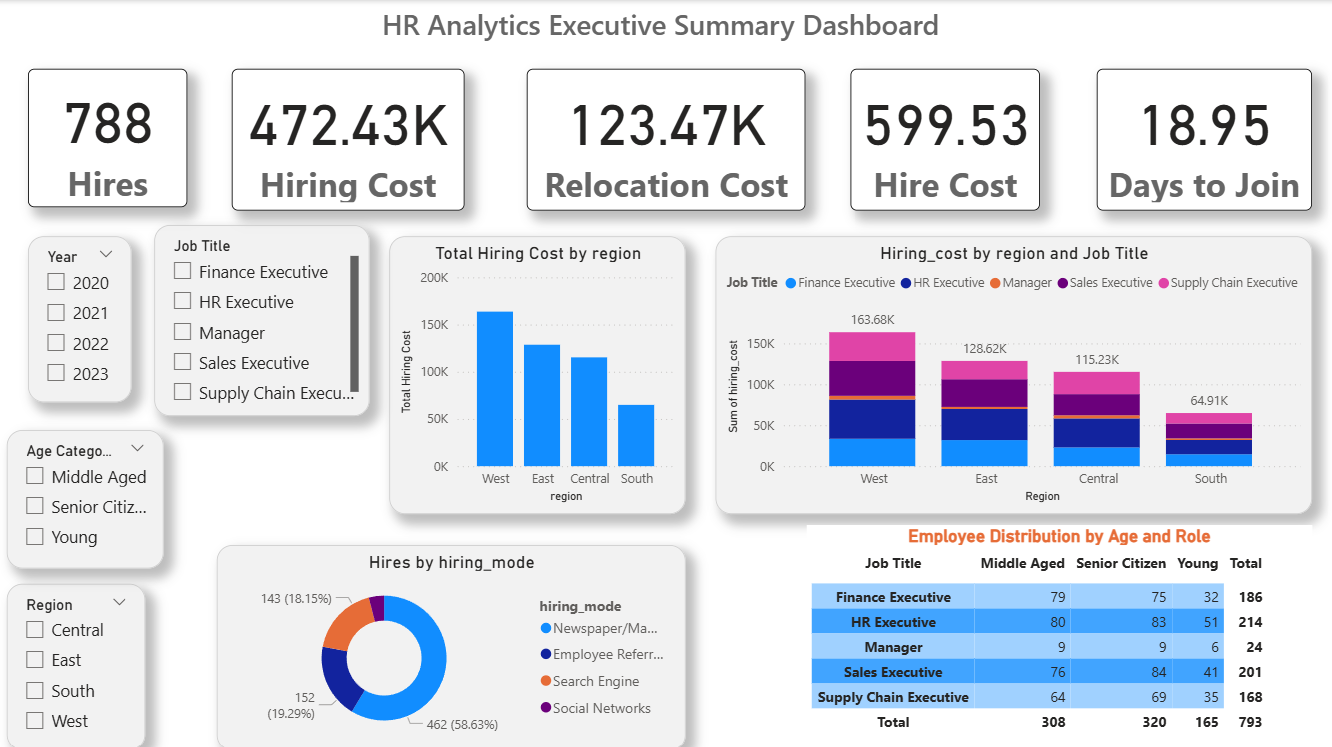

Layout of this report page (visuals, bound fields, positions):
{"tool":"powerbi","page":{"name":"Executive Summary","canvas":[1280,720],"ordinal":0},"visuals":[{"type":"clusteredColumnChart","fields":{"Category":["Store Data.region"],"Y":["Combined Hiring Data.Total Hiring Cost"]},"box":[374.6,226.3,284.4,266],"z":0},{"type":"columnChart","title":"Hiring_cost by region and Job Title","fields":{"Category":["Store Data.region"],"Y":["Sum(Combined Hiring Data.hiring_cost)"],"Series":["Employee Data.Job Title"]},"box":[688,226.3,571.8,266],"z":1000},{"type":"textbox","box":[0,0,1270.5,48.9],"z":2000},{"type":"card","fields":{"Values":["Combined Hiring Data.Hires"]},"box":[28.7,65.7,152.9,133],"z":3000},{"type":"card","fields":{"Values":["Combined Hiring Data.Total Hiring Cost"]},"box":[224.4,65.7,223.2,136.1],"z":4000},{"type":"card","fields":{"Values":["Combined Hiring Data.Total Relocation Cost"]},"box":[507.3,65.7,267.6,136.1],"z":5000},{"type":"card","fields":{"Values":["Combined Hiring Data.Cost per Hire"]},"box":[817.7,65.7,181.9,136.1],"z":6000},{"type":"card","fields":{"Values":["Combined Hiring Data.Avg Days to Join"]},"box":[1053.1,65.7,206.4,136.1],"z":7000},{"type":"donutChart","fields":{"Category":["Combined Hiring Data.hiring_mode"],"Y":["Combined Hiring Data.Hires"]},"box":[209.5,522.9,449.5,197.2],"z":8000},{"type":"pivotTable","title":"Employee Distribution by Age and Role","fields":{"Rows":["Employee Data.Job Title"],"Columns":["Employee Data.Age Category"],"Values":["Employee Data.Headcount"]},"box":[775.2,503,484.7,217.1],"z":9000},{"type":"slicer","fields":{"Values":["Combined Hiring Data.Year"]},"box":[29,226.3,99.4,159],"z":10000},{"type":"slicer","fields":{"Values":["Store Data.region"]},"box":[8.7,559.8,132.7,160.1],"z":11000},{"type":"slicer","fields":{"Values":["Employee Data.Job Title"]},"box":[149.8,215.6,206.4,183.5],"z":12000},{"type":"slicer","fields":{"Values":["Employee Data.Age Category"]},"box":[8.7,412.6,150,132.7],"z":13000}]}

Visuals, with their boxes in screenshot pixels (x1, y1, x2, y2), scaled from the page's 1280x720 canvas onto the 1332x747 screenshot:
clusteredColumnChart - Store Data.region x Combined Hiring Data.Total Hiring Cost: left=390, top=235, right=686, bottom=511
"Hiring_cost by region and Job Title" columnChart: left=716, top=235, right=1311, bottom=511
textbox: left=0, top=0, right=1322, bottom=51
card - Combined Hiring Data.Hires: left=30, top=68, right=189, bottom=206
card - Combined Hiring Data.Total Hiring Cost: left=234, top=68, right=466, bottom=209
card - Combined Hiring Data.Total Relocation Cost: left=528, top=68, right=806, bottom=209
card - Combined Hiring Data.Cost per Hire: left=851, top=68, right=1040, bottom=209
card - Combined Hiring Data.Avg Days to Join: left=1096, top=68, right=1311, bottom=209
donutChart - Combined Hiring Data.hiring_mode x Combined Hiring Data.Hires: left=218, top=543, right=686, bottom=746
"Employee Distribution by Age and Role" pivotTable: left=807, top=522, right=1311, bottom=746
slicer - Combined Hiring Data.Year: left=30, top=235, right=134, bottom=400
slicer - Store Data.region: left=9, top=581, right=147, bottom=746
slicer - Employee Data.Job Title: left=156, top=224, right=371, bottom=414
slicer - Employee Data.Age Category: left=9, top=428, right=165, bottom=566
